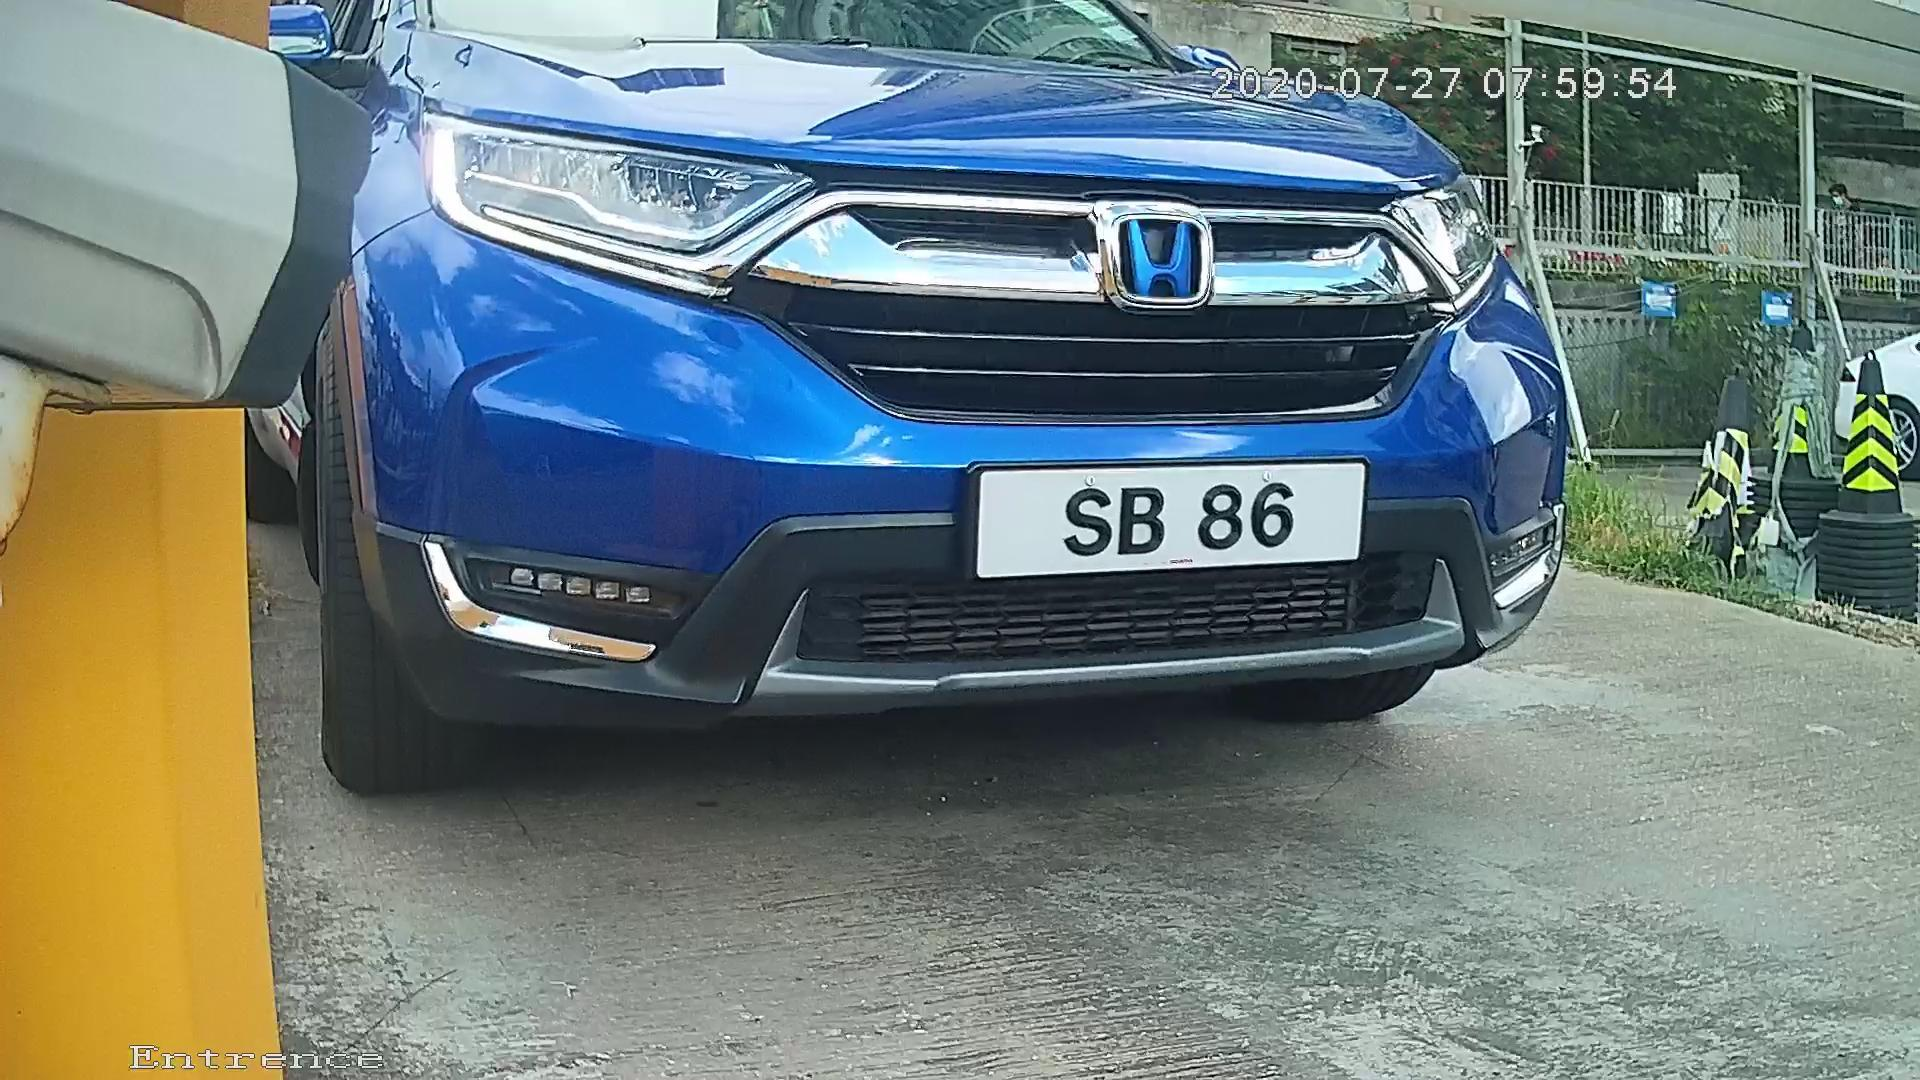License Plate: (943, 449, 1389, 584)
